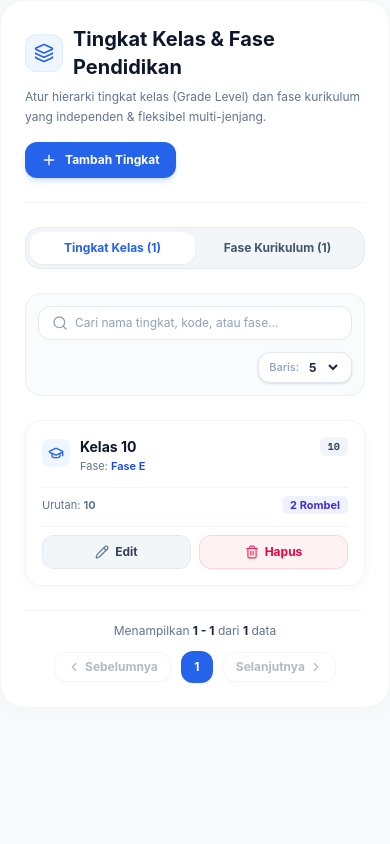
Test: Academic Views — UI Components › renders GradeLevelsView and allows switching subtabs between Tingkat and Fase
Expected: the heading "Tingkat Kelas & Fase Pendidikan" is shown, [73, 27, 275, 79]
Expected: the button "Tingkat Kelas (1)" is shown, [30, 232, 195, 264]
Note: Switch to Fase Kurikulum
Click the button "Fase Kurikulum (1)" at (278, 248), box [195, 232, 360, 264]
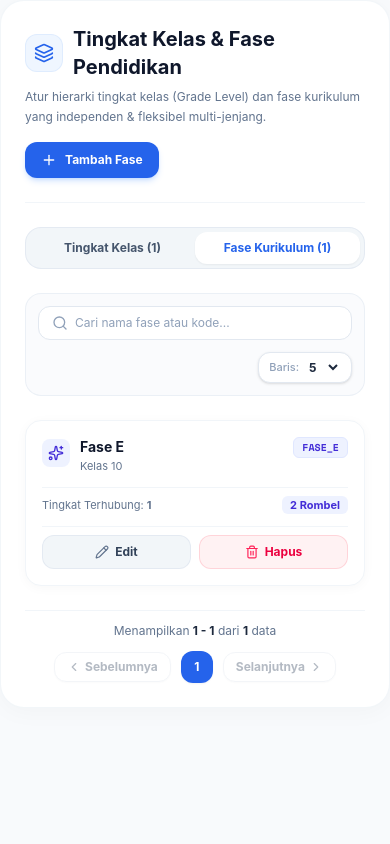
Expected: the heading "Fase E" is shown, [80, 437, 124, 456]
